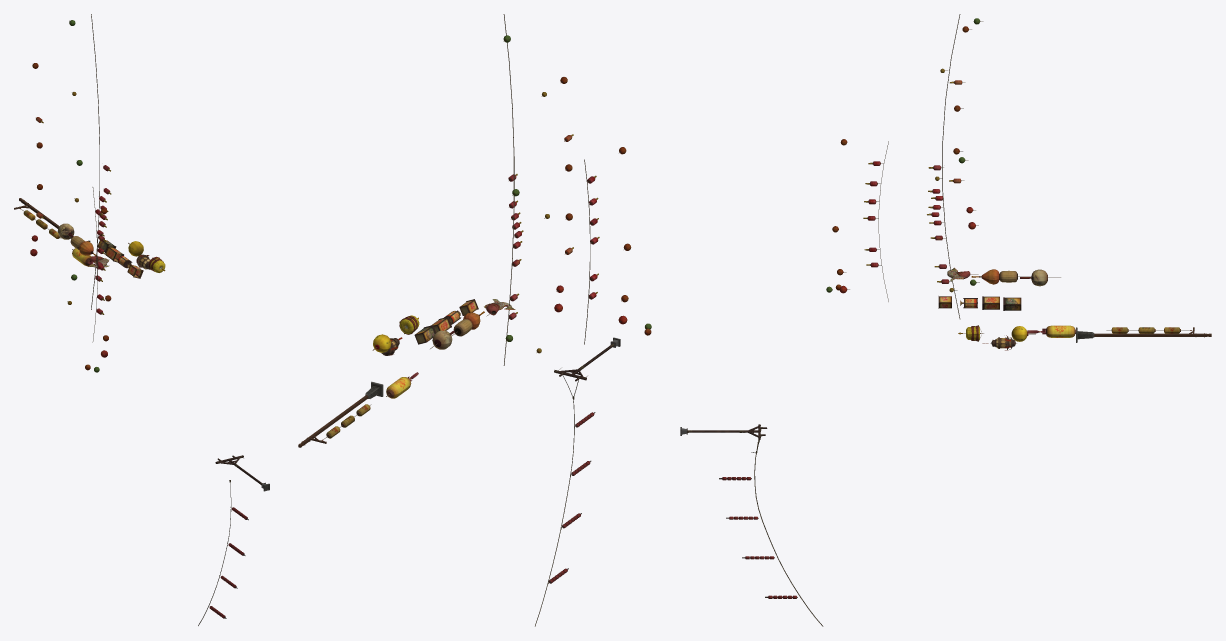
The model's file is RedLantern.FBX.
The picture shows the model from 3 angles, left to right: view 1: azimuth 30°, elevation 25°; view 2: azimuth 150°, elevation 25°; view 3: azimuth 270°, elevation 25°; orthographic projection. The views are drawn at different scales.
Parts seen in each view (by area): view 1: lantern17, lantern02, lantern16, lantern21; view 2: lantern16, lantern17, lantern02, lantern21; view 3: lantern16, lantern17.
Boxes of the visible parts, bbox=[...] form: lantern17: bbox=[91, 14, 111, 309]; lantern02: bbox=[198, 455, 269, 625]; lantern16: bbox=[14, 198, 90, 241]; lantern21: bbox=[92, 187, 105, 342]; lantern16: bbox=[298, 381, 383, 447]; lantern17: bbox=[503, 14, 523, 365]; lantern02: bbox=[535, 337, 620, 626]; lantern21: bbox=[584, 159, 599, 344]; lantern16: bbox=[1076, 327, 1211, 342]; lantern17: bbox=[927, 14, 960, 319].
Size of the model in its own units: 2218 by 8314 by 6752.
9 materials, 9 textured.
